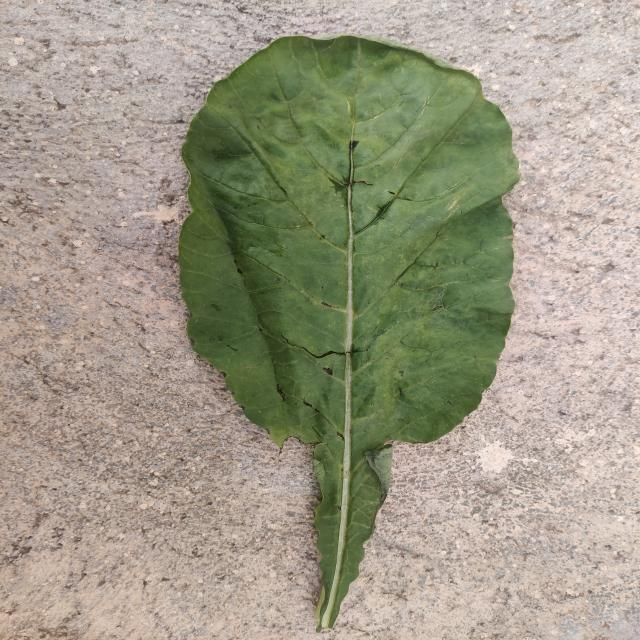black root rot raddish: (180, 35, 518, 630)
